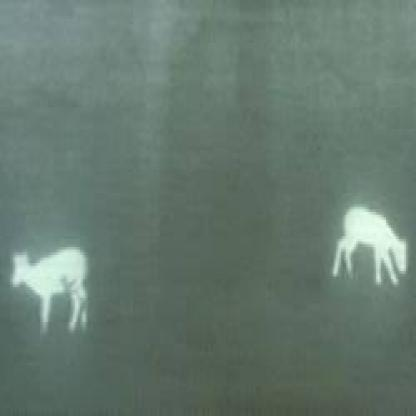rehkitze: (7, 247, 91, 347), (325, 202, 411, 291)
